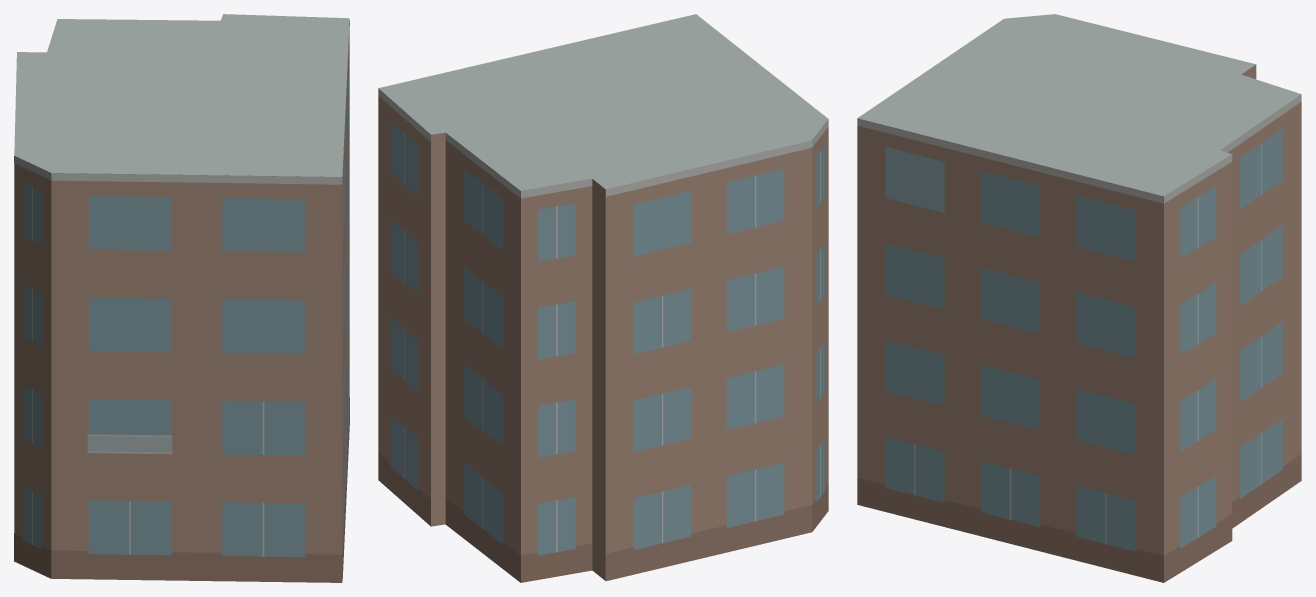
The model's file is survey-upis-32664066.glb.
The picture shows the model from 3 angles, left to right: view 1: azimuth 30°, elevation 25°; view 2: azimuth 150°, elevation 25°; view 3: azimuth 270°, elevation 25°; orthographic projection. The views are drawn at different scales.
Visible parts, largest first — view 1: survey-upis-32664066.tmp; view 2: survey-upis-32664066.tmp; view 3: survey-upis-32664066.tmp.
Part boxes in pixels (x1=…): survey-upis-32664066.tmp: x1=14, y1=14, x2=349, y2=582; survey-upis-32664066.tmp: x1=378, y1=14, x2=828, y2=582; survey-upis-32664066.tmp: x1=857, y1=14, x2=1301, y2=582.
Size of the model in its own units: 13.06 by 12.9 by 13.45.
